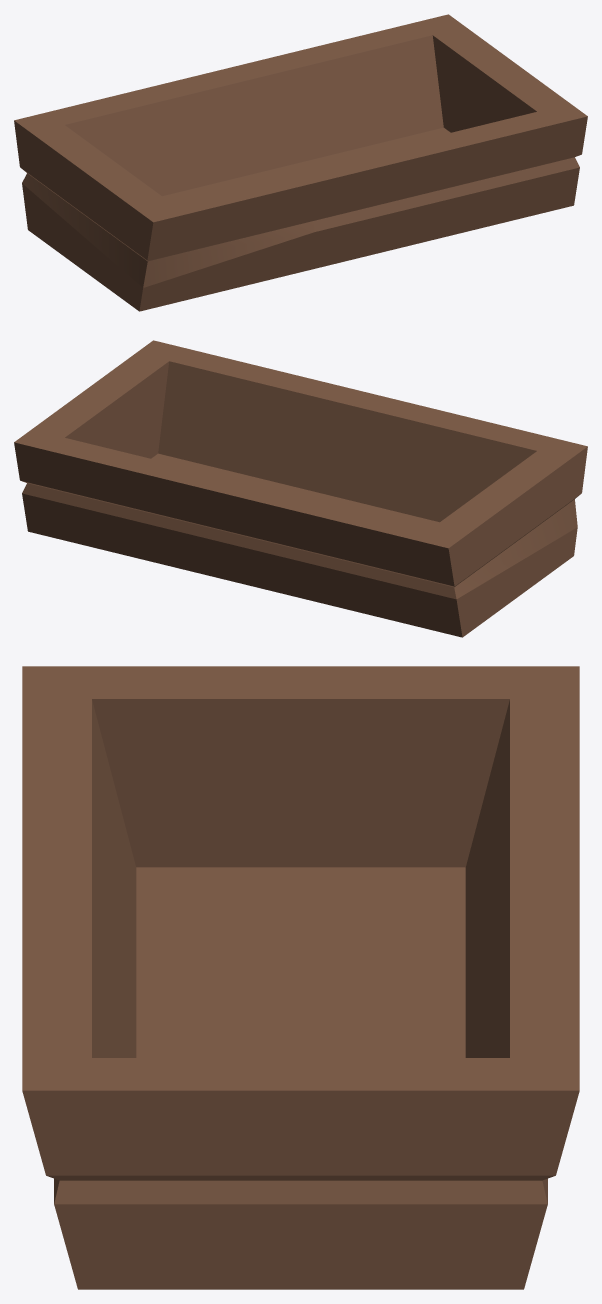
File: Chest_Body.fbx
3 views of the same model, one above another, from view 1: azimuth 30°, elevation 25°; view 2: azimuth 150°, elevation 25°; view 3: azimuth 270°, elevation 25° (orthographic). The views are drawn at different scales.
Visible parts, largest first — view 1: Chest_Body; view 2: Chest_Body; view 3: Chest_Body.
Boxes of the visible parts, x1,y1,x2,y2 form: Chest_Body: (14, 14, 587, 311); Chest_Body: (14, 340, 587, 637); Chest_Body: (22, 666, 579, 1289).
Bounding box in the file's own units: 1.11 × 0.616 × 0.2425.
